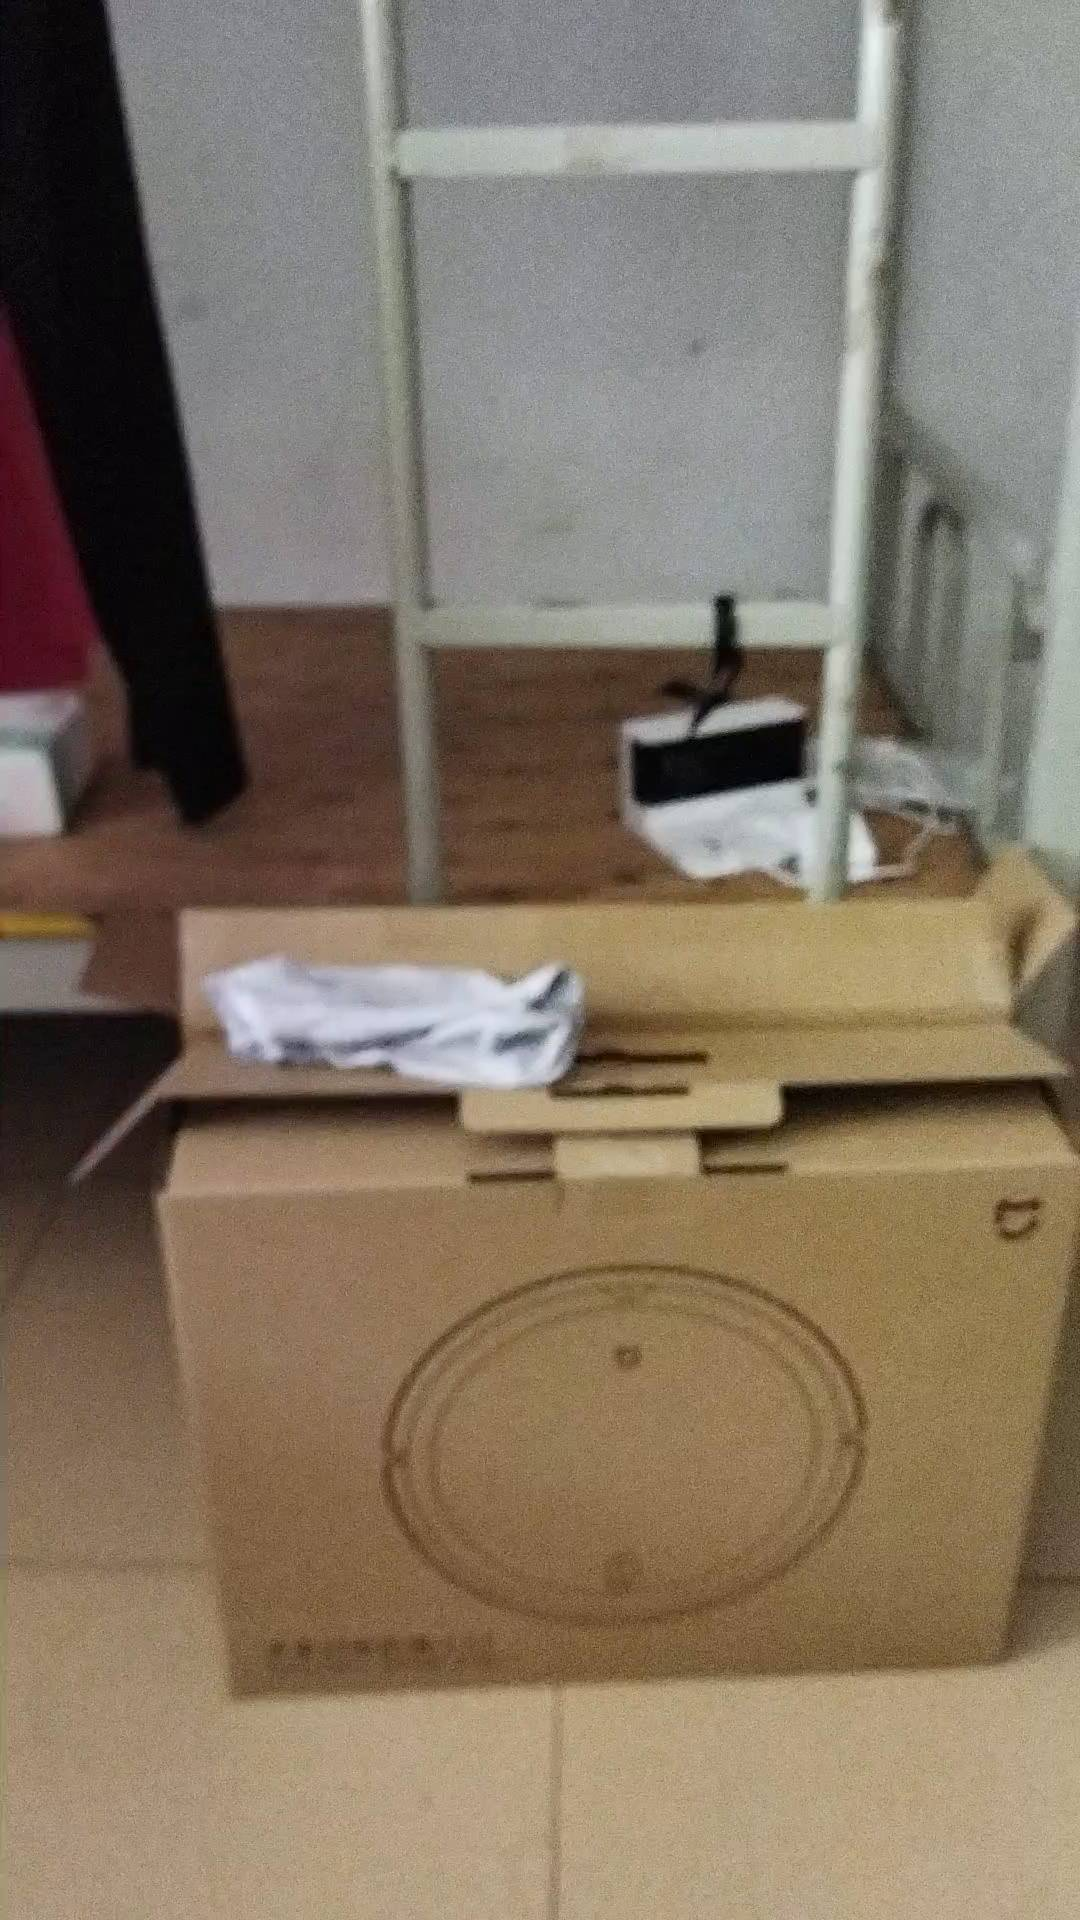recharge seat: (613, 692, 816, 880)
